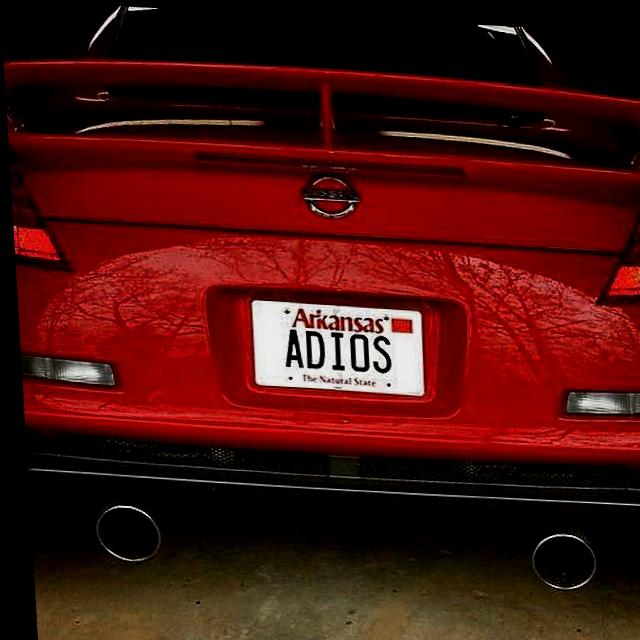License_Plate: (246, 293, 434, 404)
